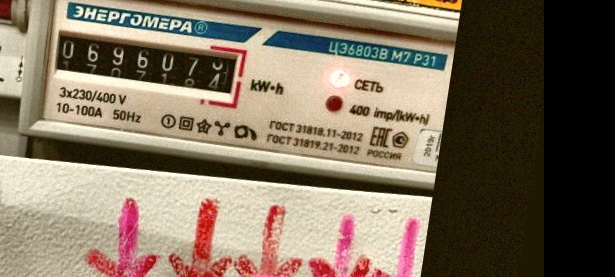0: (158, 49, 176, 73), (59, 37, 76, 60)
4: (206, 69, 222, 92)
6: (84, 40, 101, 62), (133, 47, 150, 69)
7: (183, 54, 201, 77)
9: (108, 43, 124, 66)
screen: (39, 17, 251, 106)
